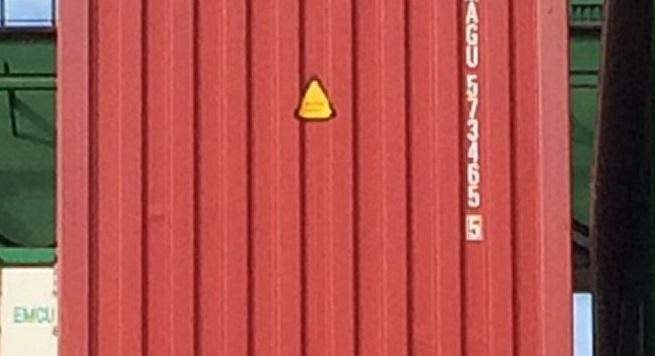container_no_door: (59, 4, 567, 347)
